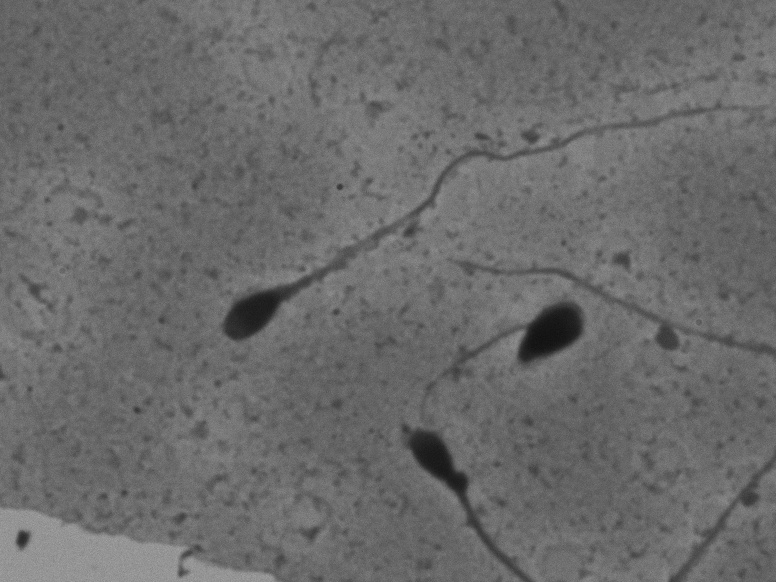Abnormal: (418, 275, 600, 424)
Normal: (211, 93, 756, 358)
